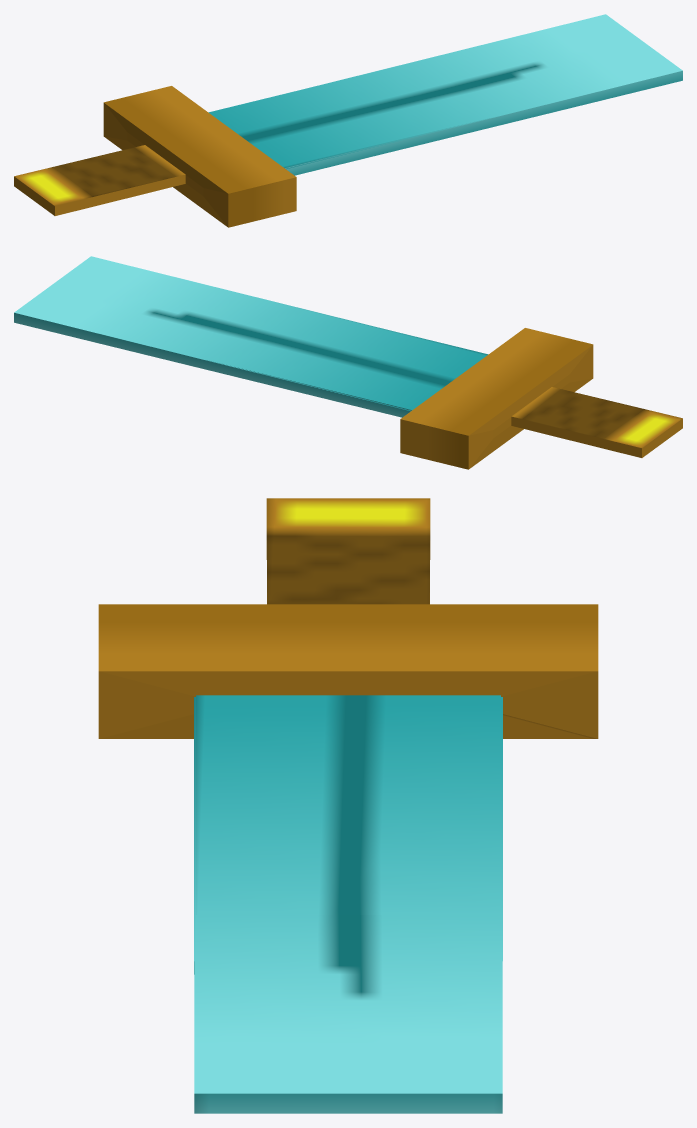
Rendered from sword.fbx.
The picture shows the model from 3 angles, top to bottom: view 1: azimuth 30°, elevation 25°; view 2: azimuth 150°, elevation 25°; view 3: azimuth 270°, elevation 25°; orthographic projection. The views are drawn at different scales.
Parts seen in each view (by area): view 1: Cube; view 2: Cube; view 3: Cube.
Boxes of the visible parts, box(x1,y1,x2,y2) form: Cube: box(14, 14, 682, 227); Cube: box(14, 256, 682, 469); Cube: box(98, 498, 598, 1113).
Bounding box in the file's own units: 190 × 10.08 × 67.2.
